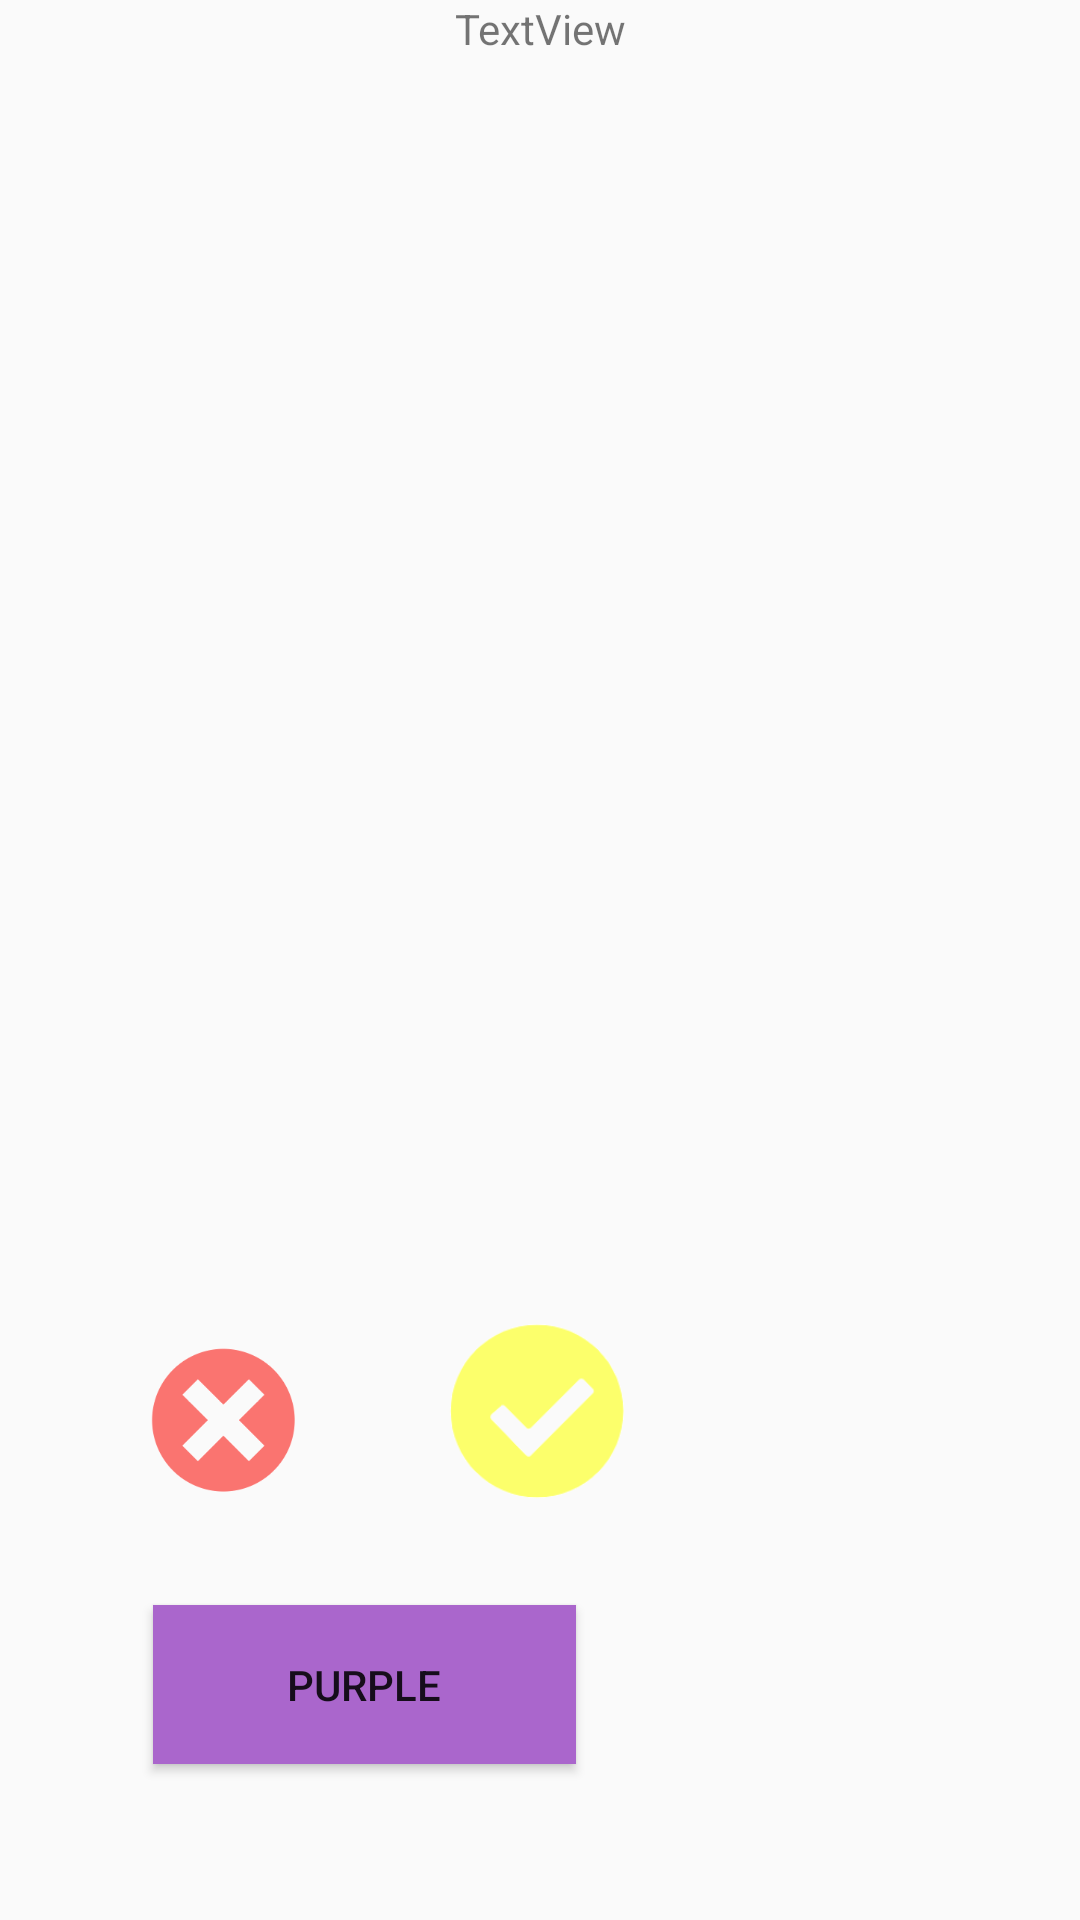

Icons on this 1080x1920 Android screen, each with its box as (x1, y1, x2, y2):
nokbutton: (152, 1348, 295, 1492)
okbutton: (450, 1324, 624, 1498)
